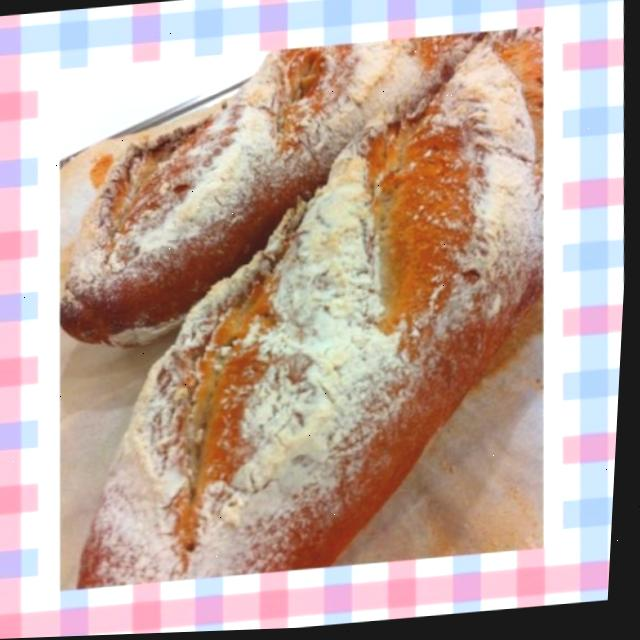面条主食: (0, 0, 625, 627)
